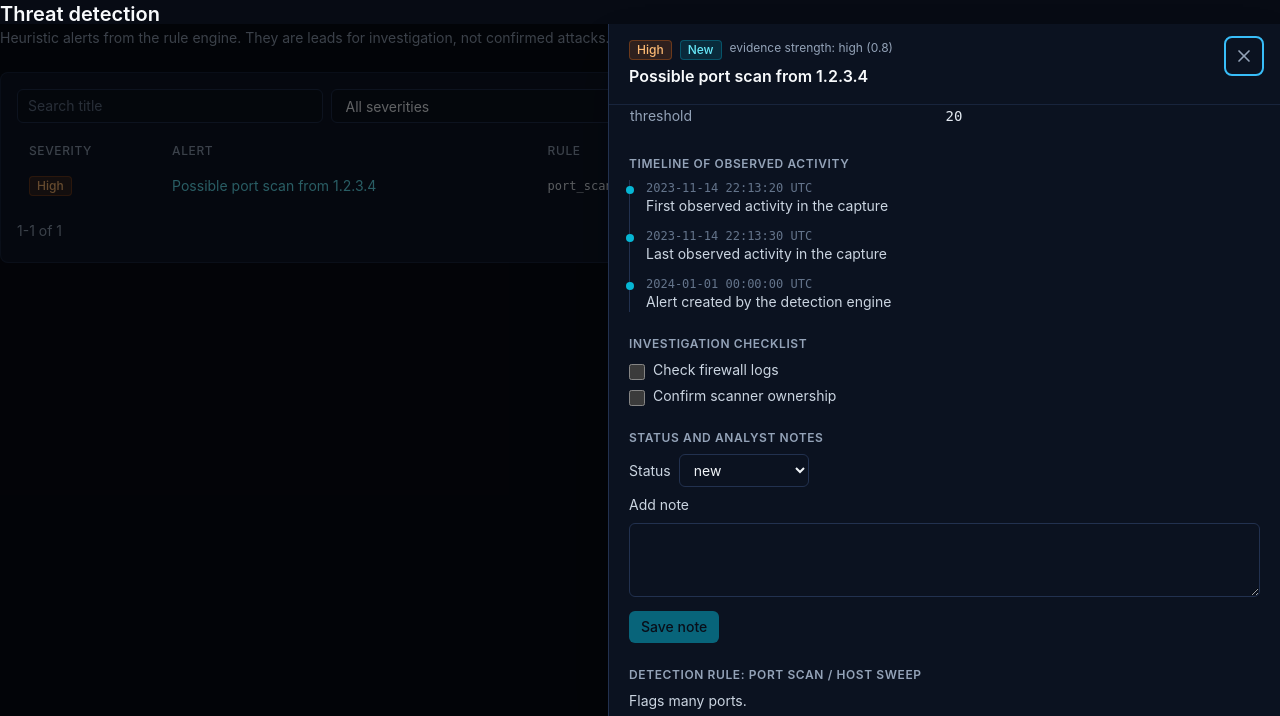
Test: drawer shows evidence, checklist and saves status and notes
(page scrolled)
Expected: the column heading "distinct ports" is shown, [629,67,944,100]
Click the checkbox labelled "Check firewall logs": (637, 372) [629,364,645,380]
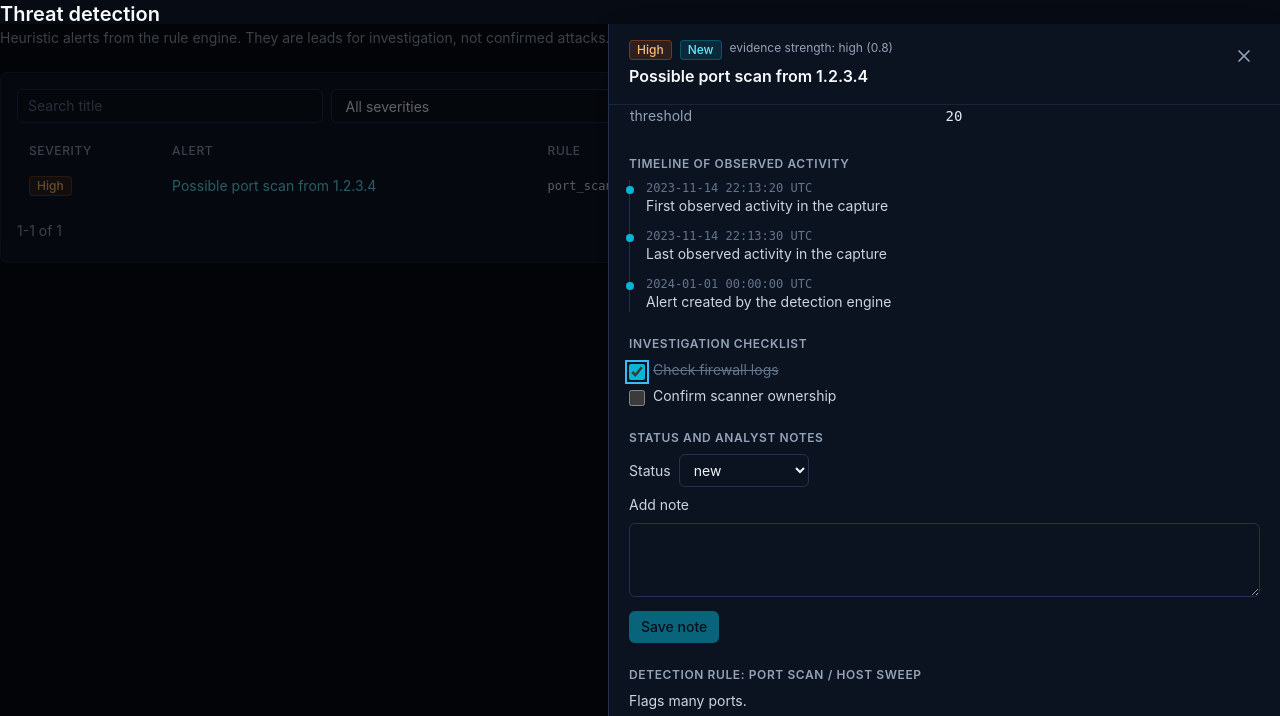
Expected: the checkbox labelled "Check firewall logs" is checked, [629,364,645,380]
Select "investigating" in the dropdown named "Alert status": (744, 470) [679,454,809,487]
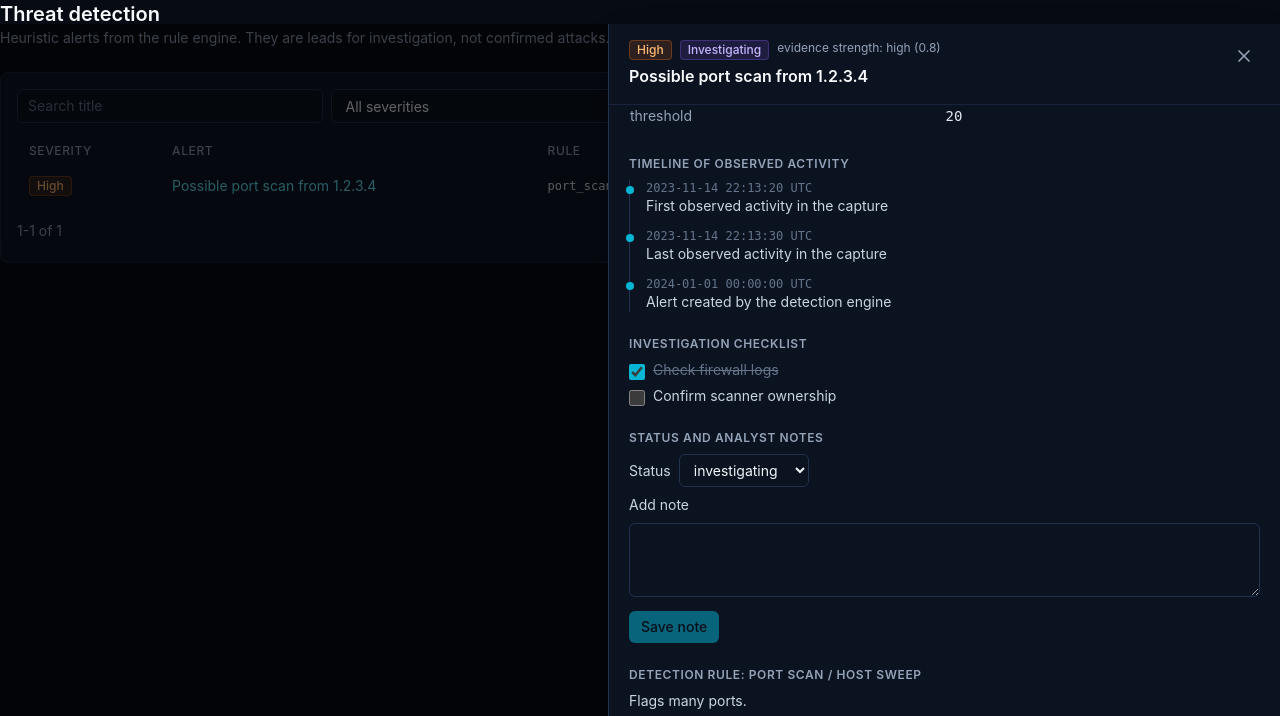
Expected: the button "Save note" is disabled, [629,611,719,643]
In the text box labelled "Add note": (944, 560) [629,523,1260,597], type "Confirmed scanner"
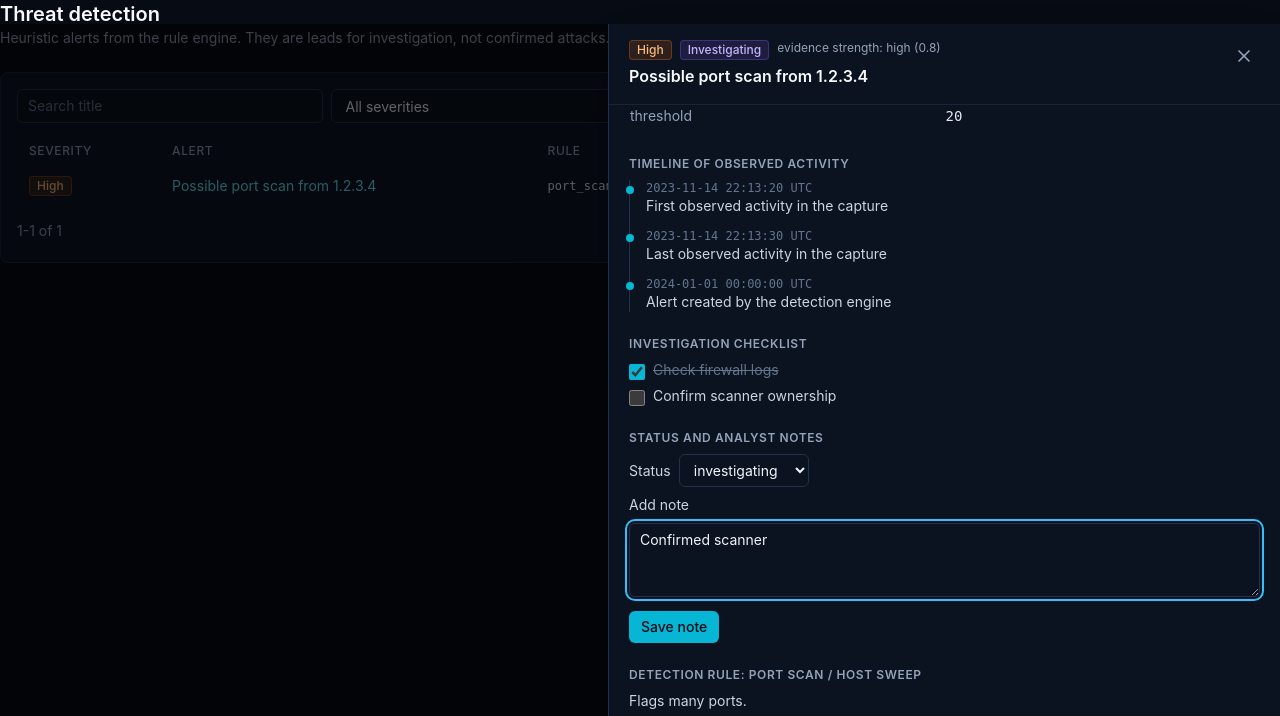
Click the button "Save note": (674, 627) [629,611,719,643]
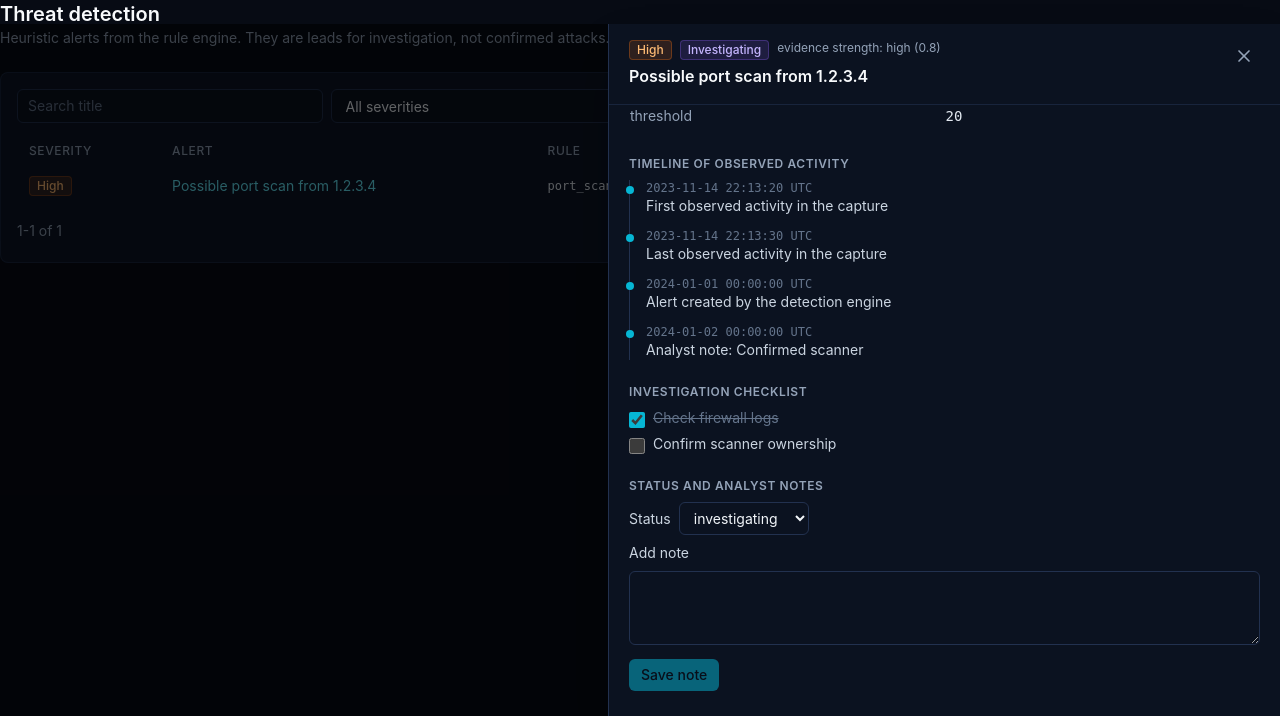
Expected: the text "Analyst note: Confirmed scanner" is shown, [646,341,864,358]
